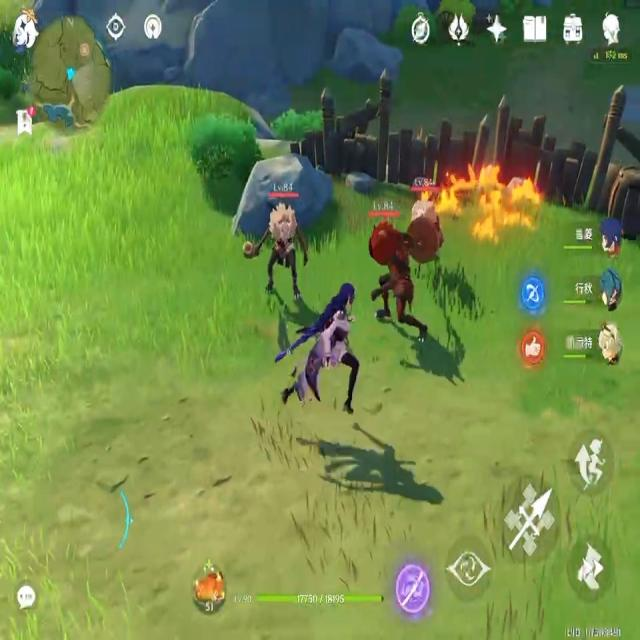genshin-hilichurls: (351, 196, 412, 342), (248, 176, 312, 306), (399, 166, 449, 292)
